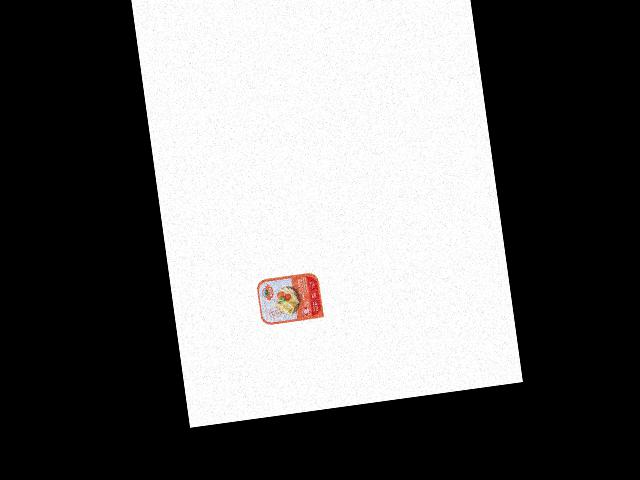cheese: (253, 268, 327, 327)
